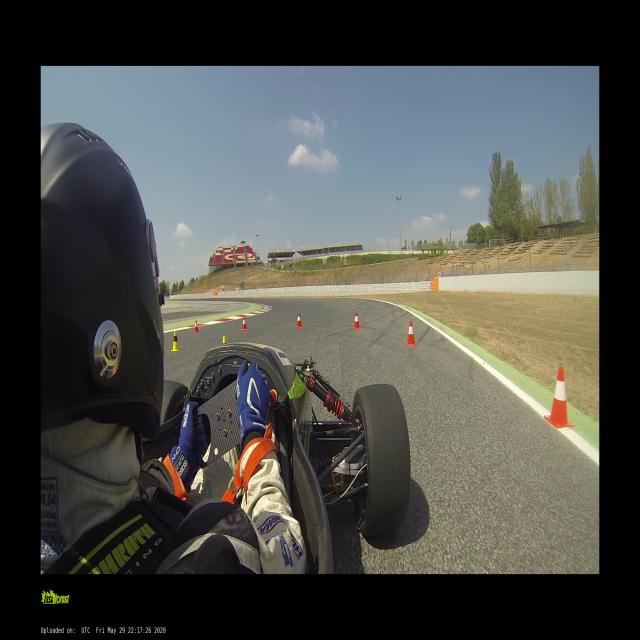orange_cone: (545, 368, 574, 429), (406, 321, 418, 346), (353, 312, 360, 328), (296, 313, 302, 327), (241, 317, 247, 330), (194, 320, 198, 332)
yellow_cone: (170, 330, 180, 352), (222, 336, 226, 344)
